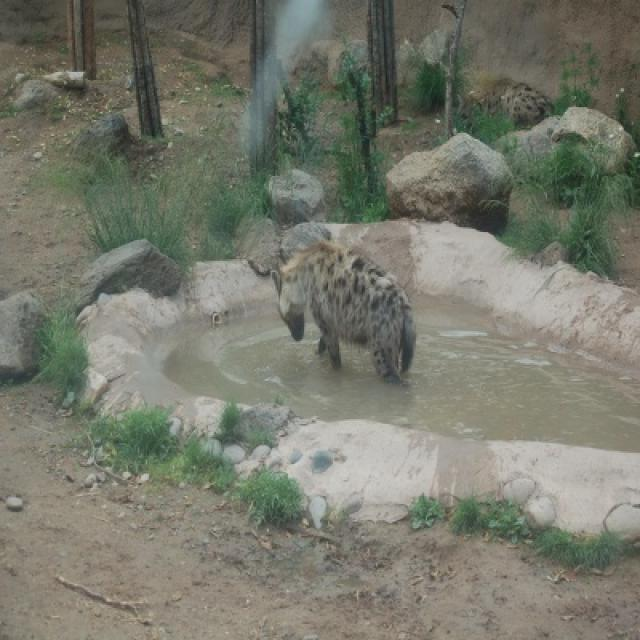hyena: (272, 242, 418, 384)
